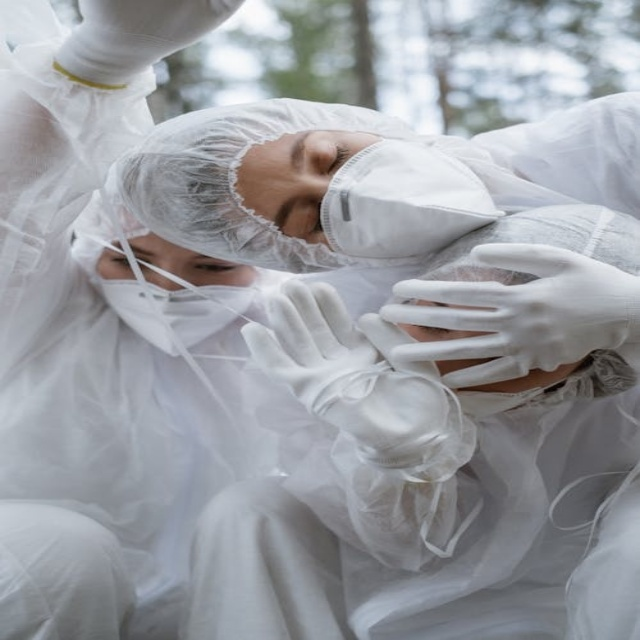Guantes: (241, 274, 472, 474), (375, 228, 630, 387), (45, 2, 248, 85)
Mascara: (319, 138, 502, 263), (84, 227, 264, 354)
Sin_gafas: (279, 129, 360, 242), (105, 243, 248, 280)
